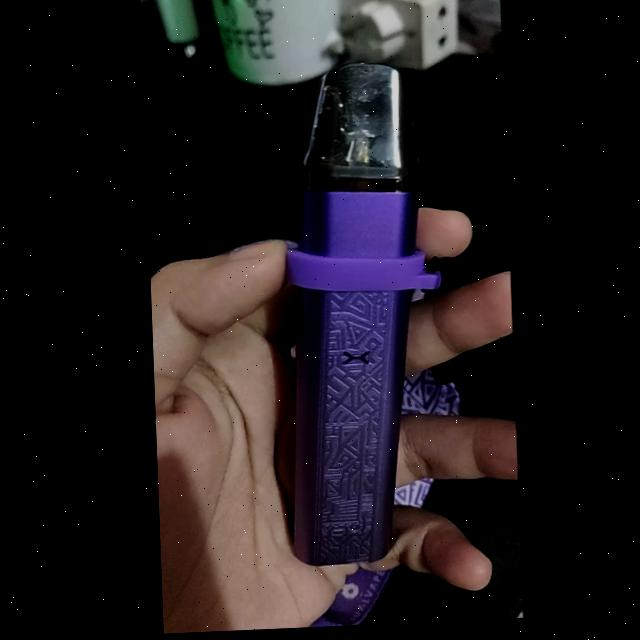vape: (275, 64, 434, 566)
